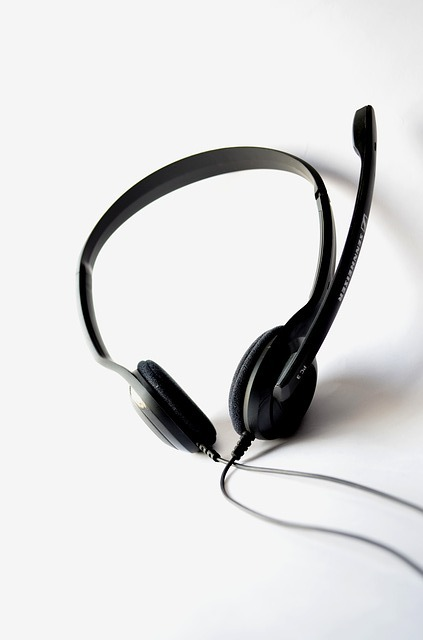headphones: (75, 146, 337, 454)
